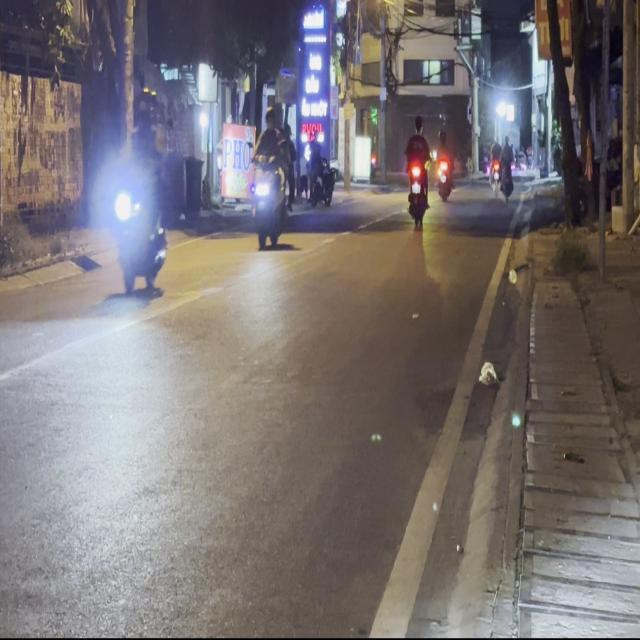helmet: (132, 91, 156, 134)
licenseplate: (109, 91, 177, 301)
